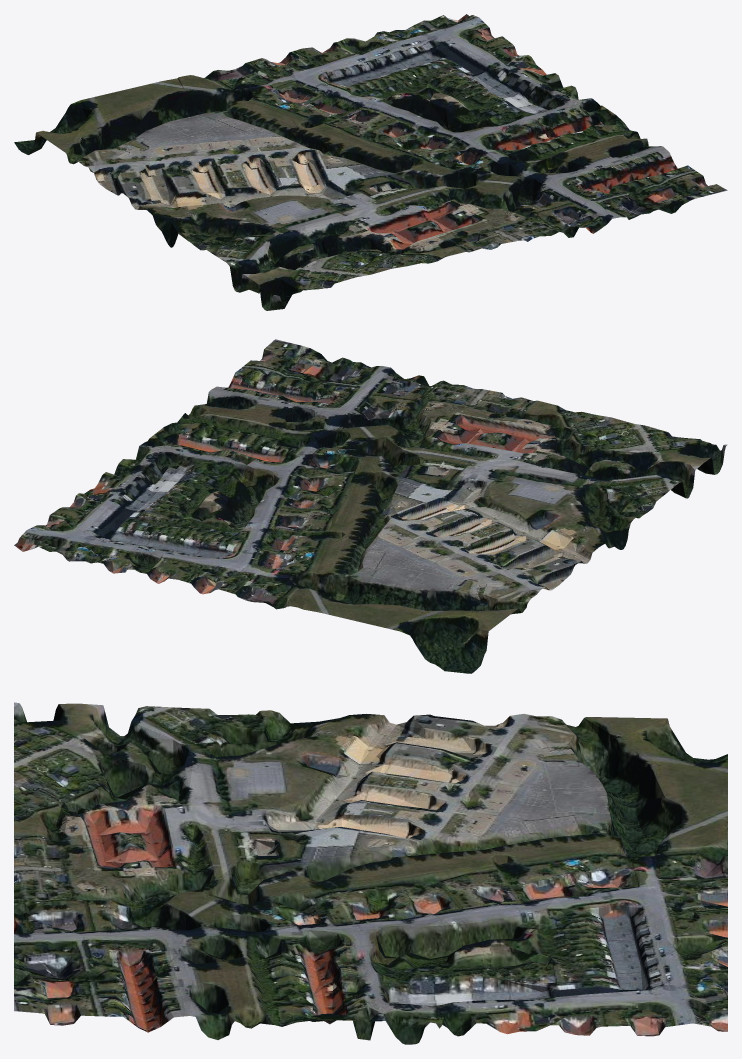
The model's file is map_13_2047_3446.dae.
The picture shows the model from 3 angles, top to bottom: view 1: azimuth 30°, elevation 25°; view 2: azimuth 150°, elevation 25°; view 3: azimuth 270°, elevation 25°; orthographic projection. The views are drawn at different scales.
Parts seen in each view (by area): view 1: Ter0; view 2: Ter0; view 3: Ter0.
Boxes of the visible parts, box(x1,y1,x2,y2) form: Ter0: box(14, 14, 727, 310); Ter0: box(14, 339, 727, 673); Ter0: box(14, 702, 727, 1044).
Bounding box in the file's own units: 256 × 256 × 24.
3 materials, 3 textured.
